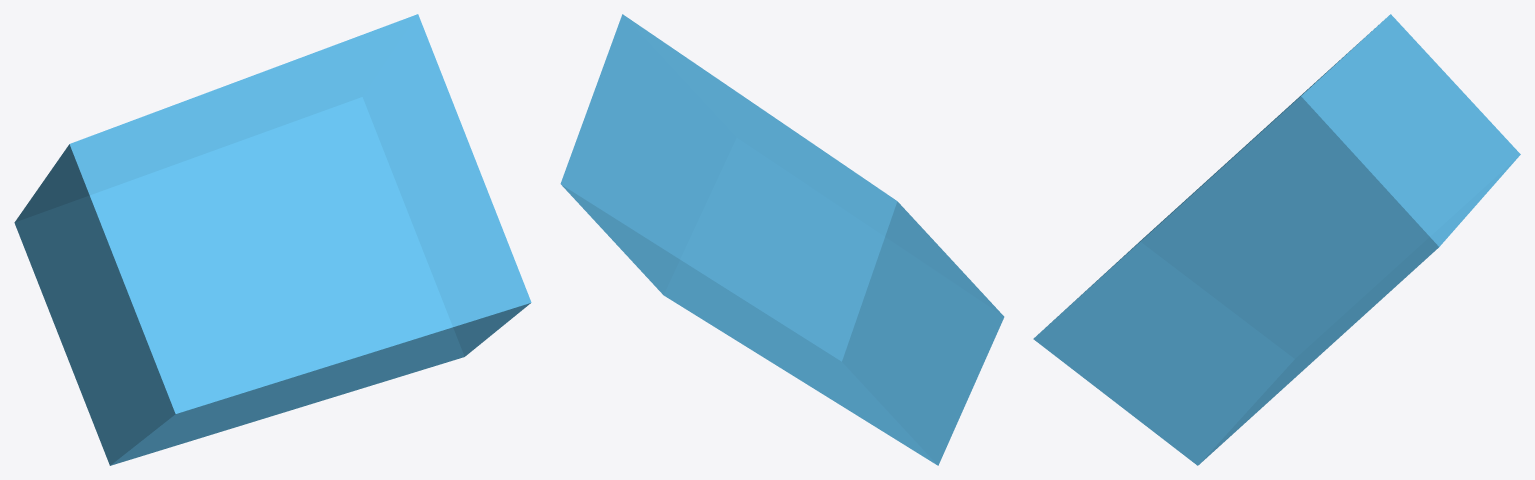
File: Event_421278790_HErechit_11.fbx
The picture shows the model from 3 angles, left to right: view 1: azimuth 30°, elevation 25°; view 2: azimuth 150°, elevation 25°; view 3: azimuth 270°, elevation 25°; orthographic projection. The views are drawn at different scales.
Parts seen in each view (by area): view 1: Model; view 2: Model; view 3: Model.
Part boxes in pixels (x1,y1,x2,y2): Model: (14, 14, 531, 465); Model: (560, 14, 1004, 465); Model: (1033, 14, 1520, 465).
Size of the model in its own units: 0.704 by 0.803 by 0.803.
